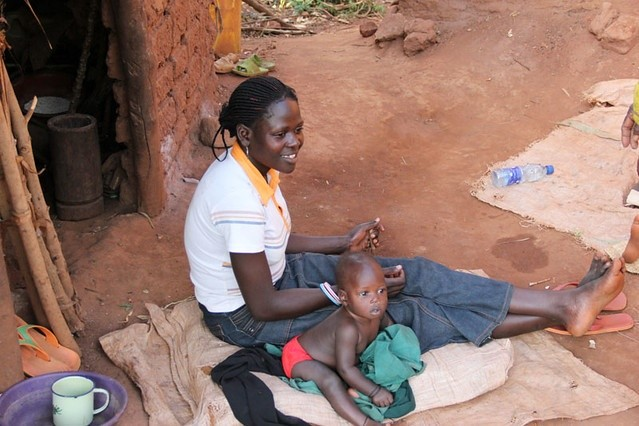face_no_mask: (228, 77, 304, 173), (336, 251, 385, 318)
